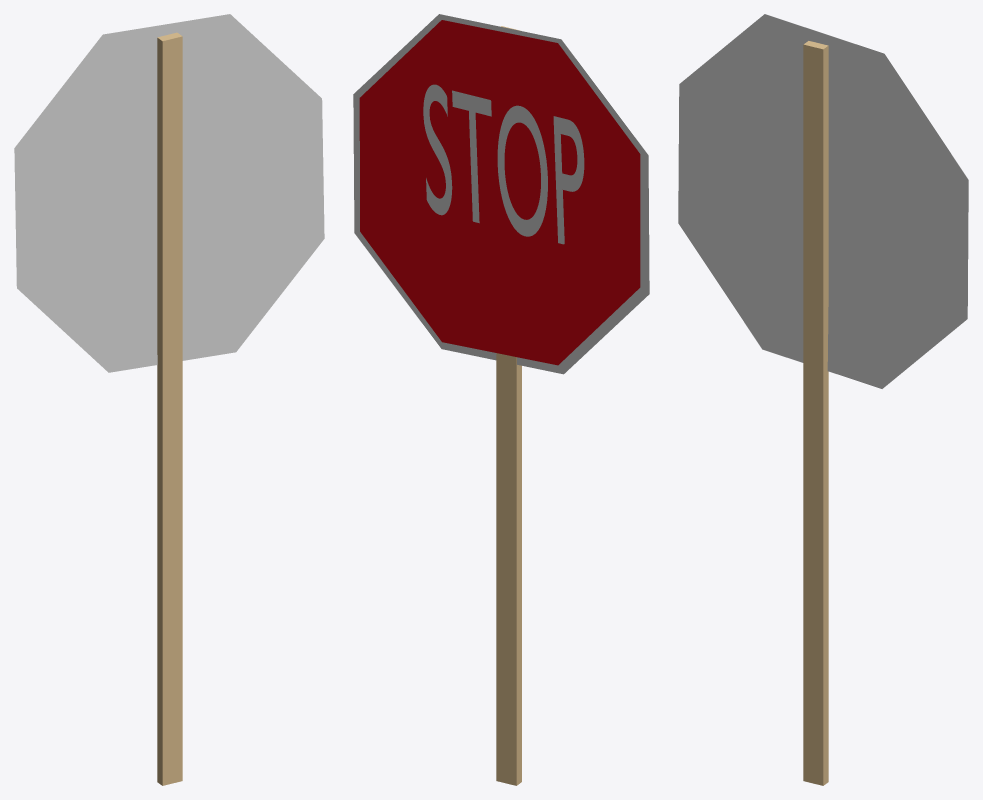
Rendered from stopSign.fbx.
3 renders of one model, left to right at view 1: azimuth 30°, elevation 25°; view 2: azimuth 150°, elevation 25°; view 3: azimuth 330°, elevation 25°, orthographic.
Parts seen in each view (by area): view 1: Circle, Cube; view 2: Circle.001, Cube, Text, Circle; view 3: Circle, Cube.
Boxes of the visible parts, bbox=[...] form: Circle: bbox=[14, 14, 324, 372]; Cube: bbox=[157, 32, 182, 785]; Circle.001: bbox=[359, 20, 640, 365]; Cube: bbox=[496, 26, 521, 785]; Text: bbox=[423, 84, 584, 244]; Circle: bbox=[353, 14, 649, 374]; Circle: bbox=[678, 14, 968, 388]; Cube: bbox=[803, 41, 828, 785].
Size of the model in its own units: 363 by 872 by 28.52.
